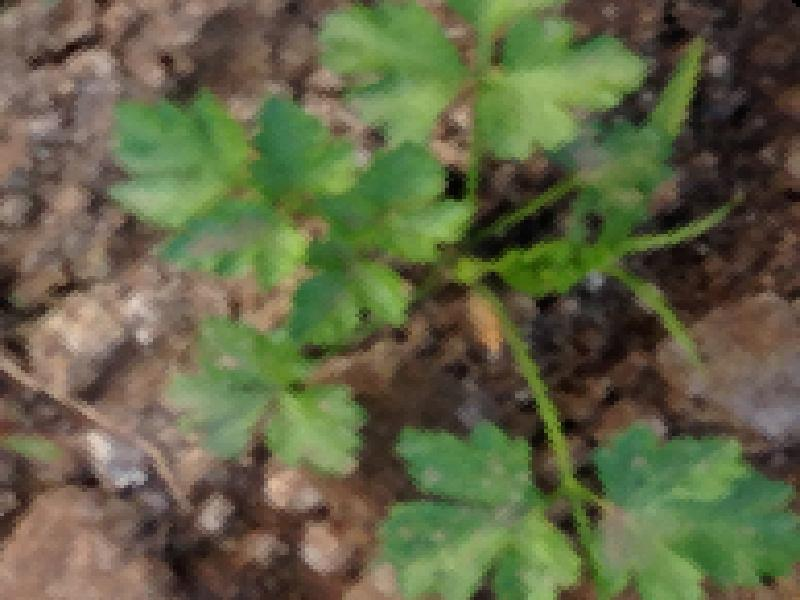radish: (0, 12, 761, 600)
